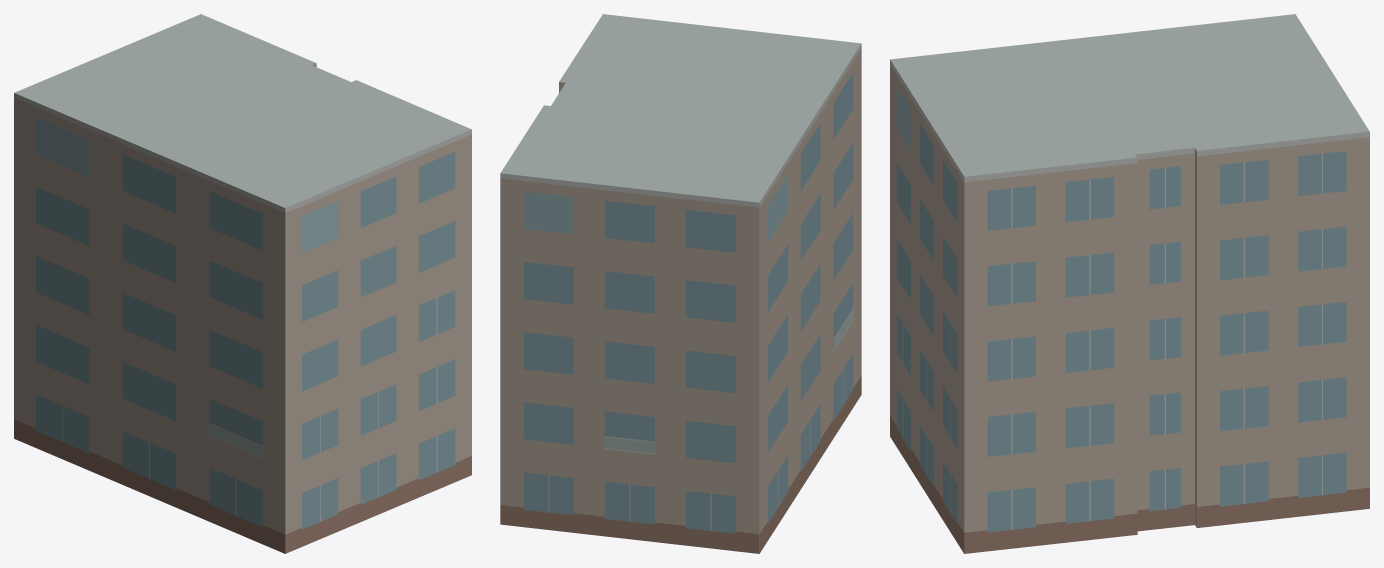
The model's file is survey-upis-32713731.glb.
3 renders of one model, left to right at view 1: azimuth 30°, elevation 25°; view 2: azimuth 150°, elevation 25°; view 3: azimuth 270°, elevation 25°, orthographic. The views are drawn at different scales.
Visible parts, largest first — view 1: survey-upis-32713731.tmp; view 2: survey-upis-32713731.tmp; view 3: survey-upis-32713731.tmp.
Boxes of the visible parts, x1,y1,x2,y2 form: survey-upis-32713731.tmp: [14, 14, 471, 553]; survey-upis-32713731.tmp: [500, 14, 861, 553]; survey-upis-32713731.tmp: [890, 14, 1369, 553].
Size of the model in its own units: 15.47 by 16.7 by 19.26.
